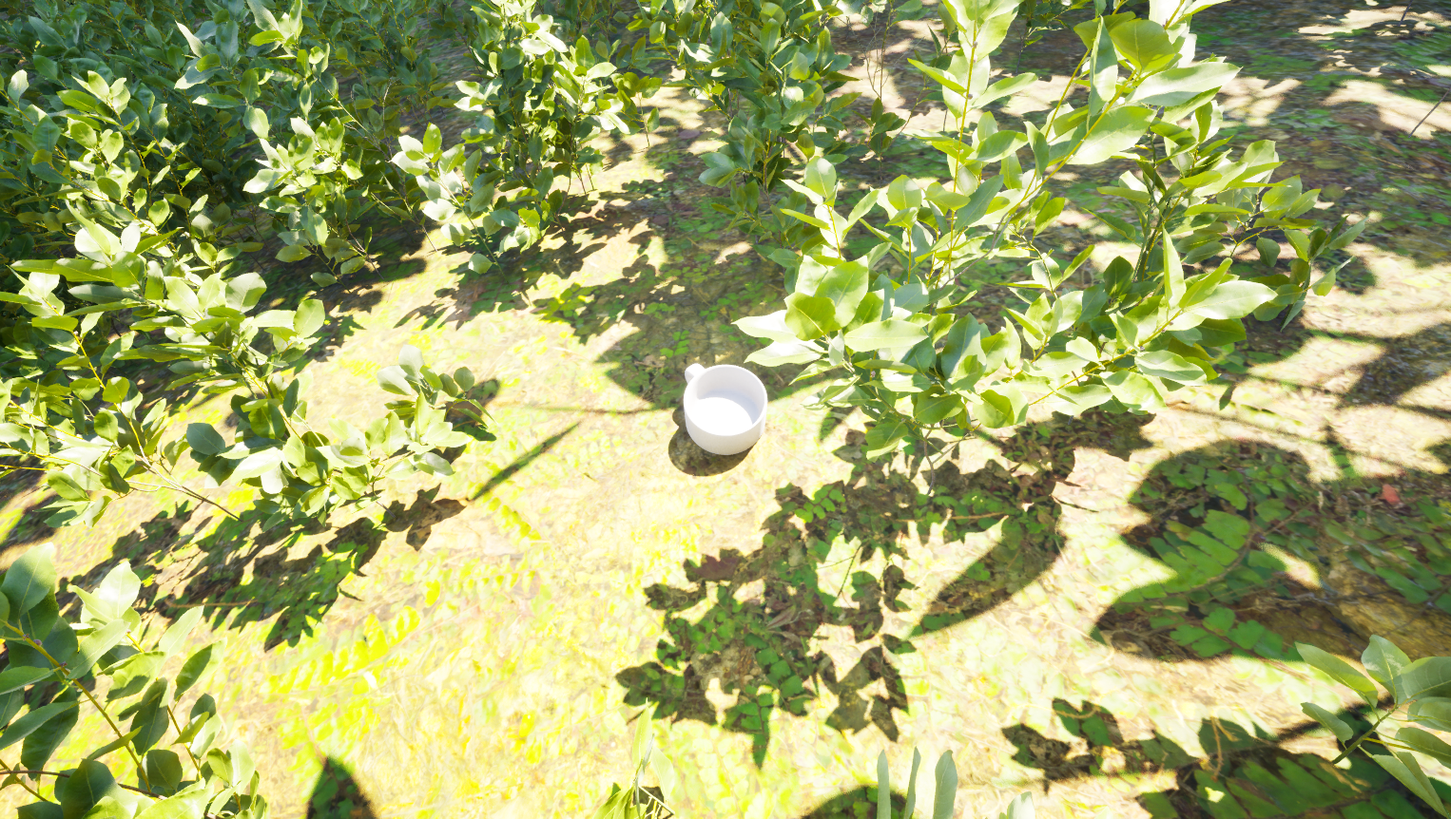Teacup: (681, 352, 772, 458)
